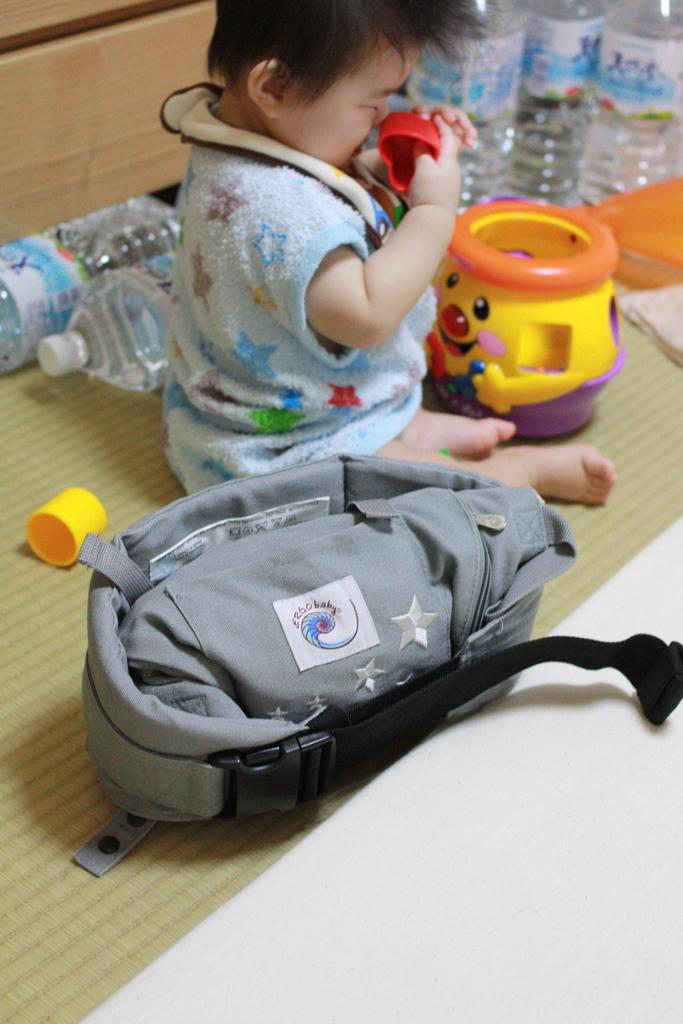Luggage-and-bags: (87, 370, 615, 845)
